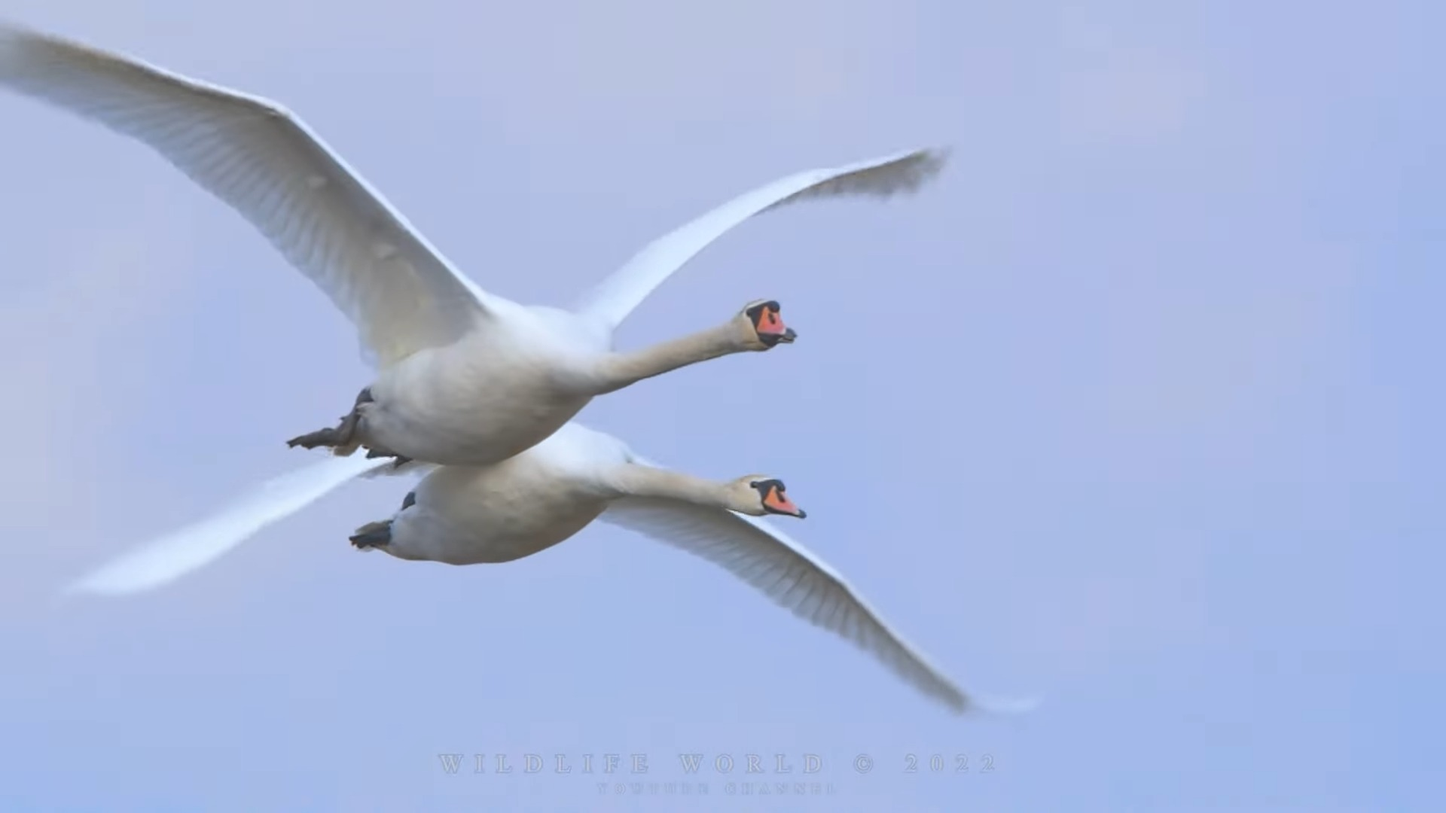not_drone: (34, 32, 941, 470), (153, 437, 1006, 709)
